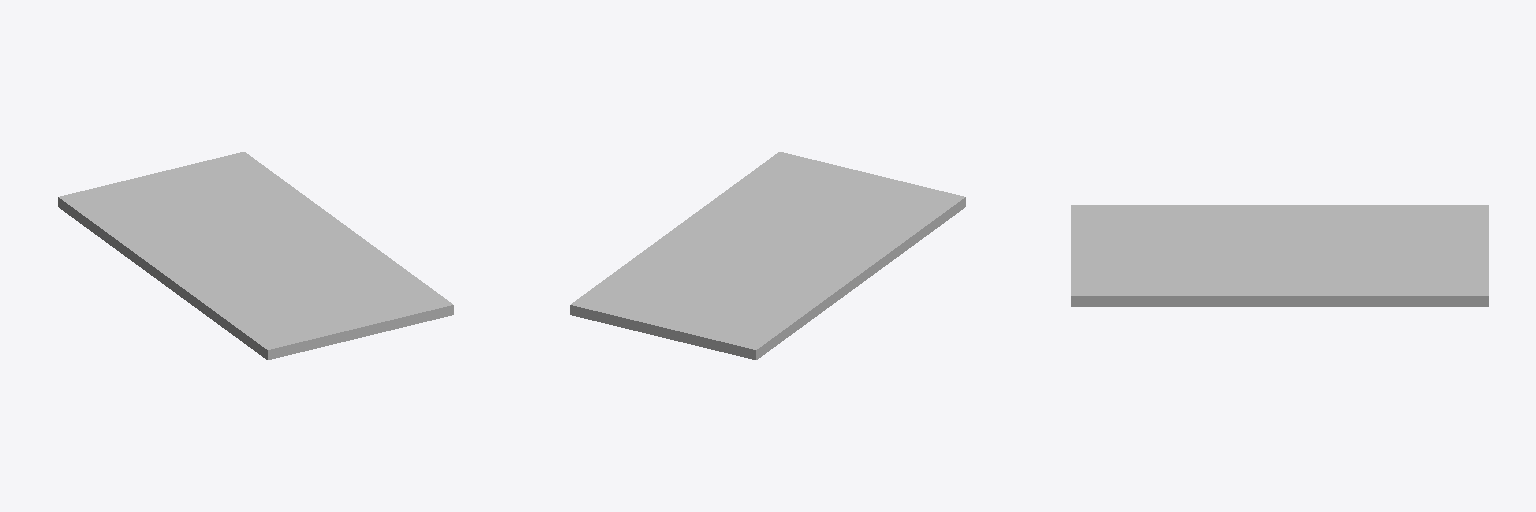
Rendered from Solar Panel.obj.
3 renders of one model, left to right at view 1: azimuth 30°, elevation 25°; view 2: azimuth 150°, elevation 25°; view 3: azimuth 270°, elevation 25°, orthographic.
Parts seen in each view (by area): view 1: Solar Panel; view 2: Solar Panel; view 3: Solar Panel.
Boxes of the visible parts, x1,y1,x2,y2 form: Solar Panel: [58, 152, 453, 359]; Solar Panel: [570, 152, 965, 359]; Solar Panel: [1071, 205, 1488, 306].
Bounding box in the file's own units: 57 × 3 × 111.